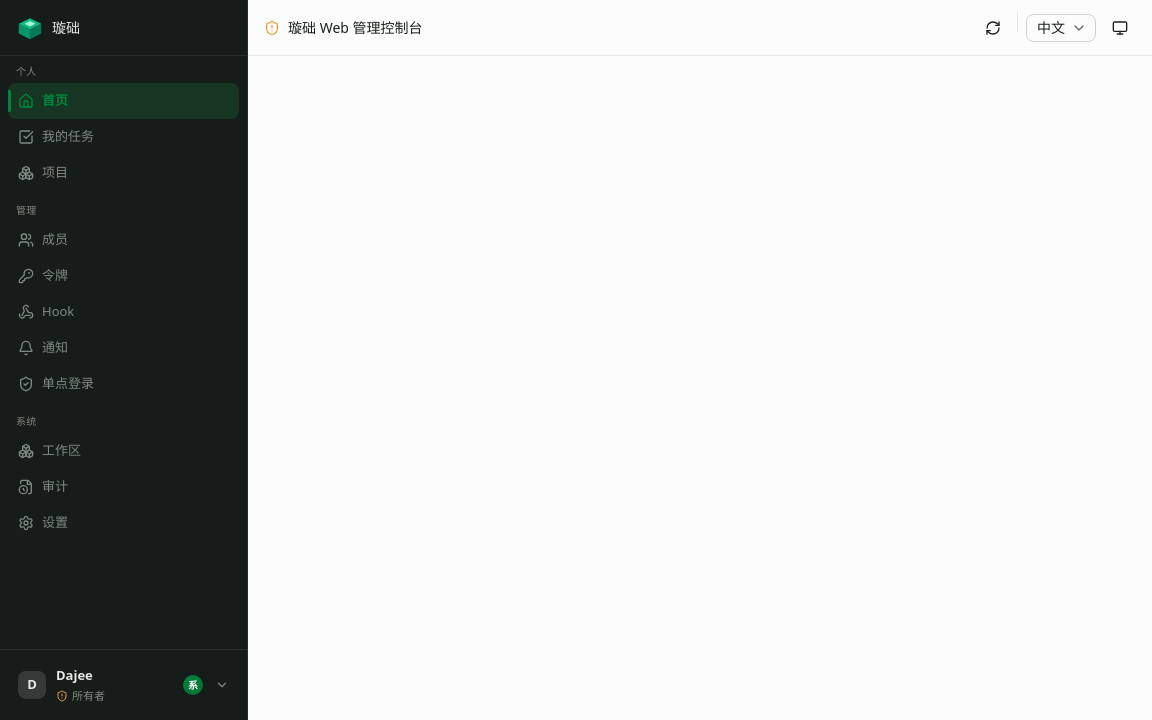
Test: WorkspaceRootRoute acting mode › shows tenant system identity from credentials current
This screenshot has width=1152, height=720.
Note: AppShell 已渲染（signedIn）；系统身份在账户切换浮层内，展开后校验。
Step 1. Click the button "D Dajee 所有者 系" → (124, 685), box [10,660,237,710]
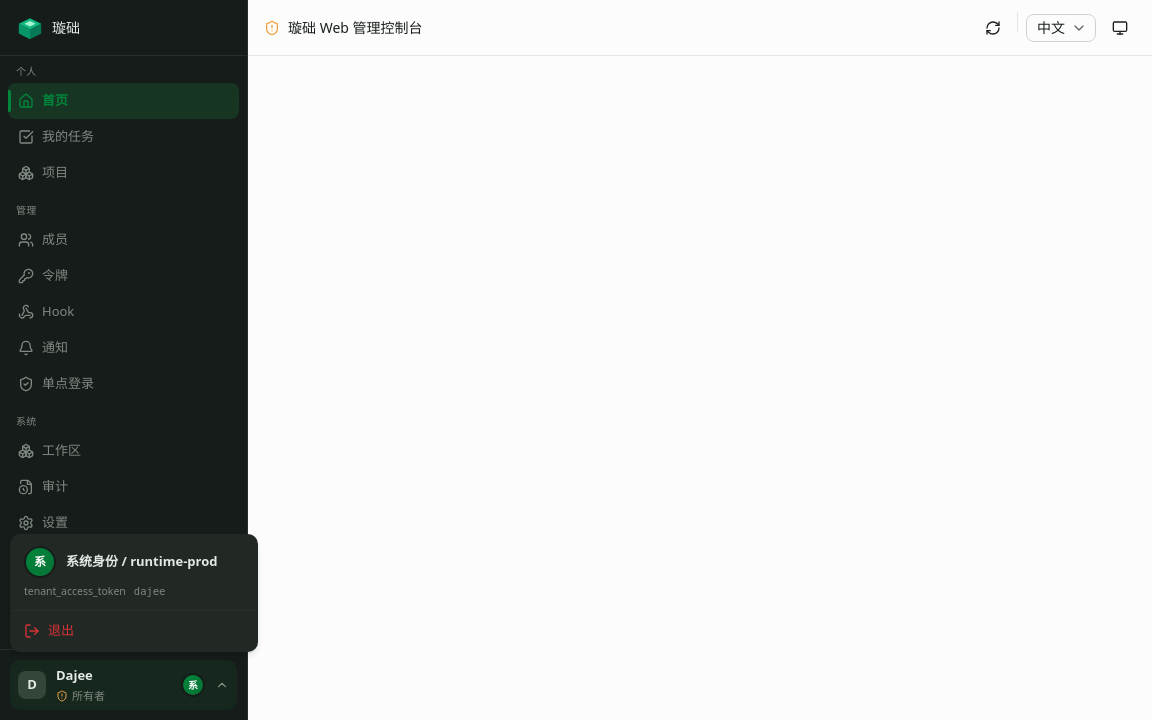
expect the text "系统身份 / runtime-prod" is shown: met, box [66,552,218,572]
